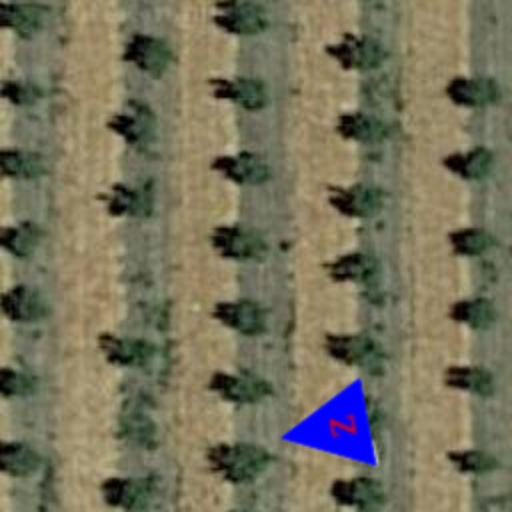triangle: (270, 376, 378, 484)
